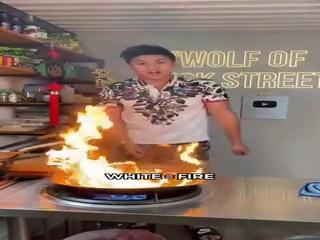Fire: (46, 81, 207, 183)
